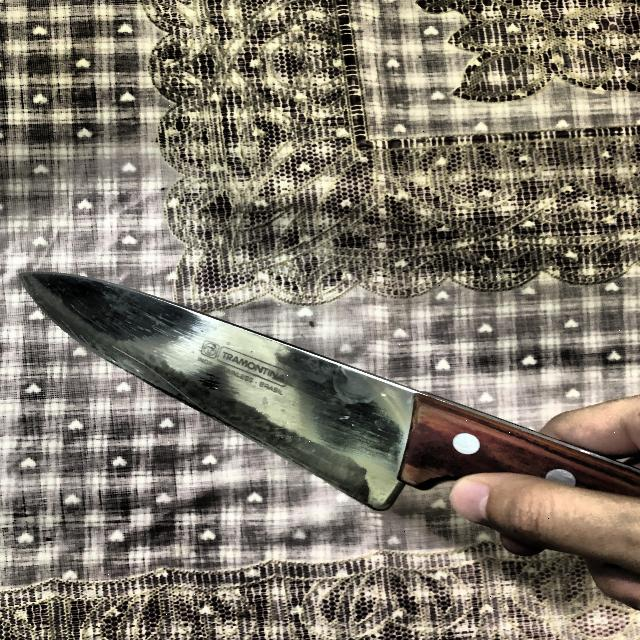knife: (17, 273, 640, 510)
